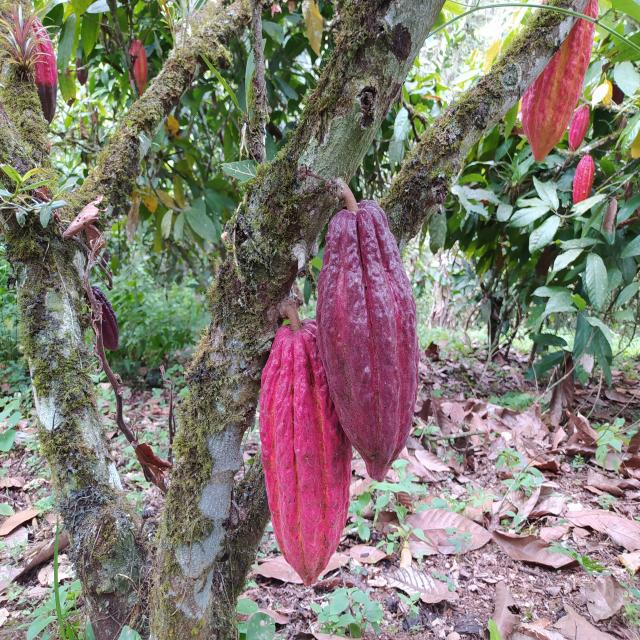Fitoftora: (34, 14, 58, 125)
Sana: (318, 200, 422, 479), (260, 325, 354, 584), (522, 0, 596, 163), (88, 286, 120, 349), (128, 38, 148, 101), (572, 154, 594, 209), (568, 107, 592, 152)
